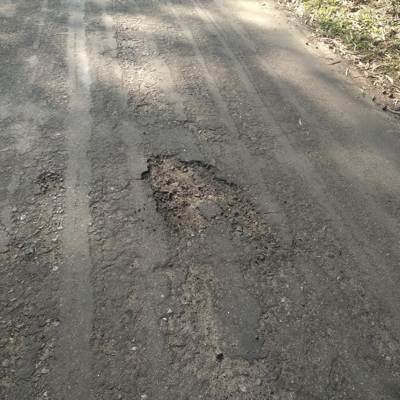pothole: (139, 153, 260, 237), (36, 170, 67, 199)
